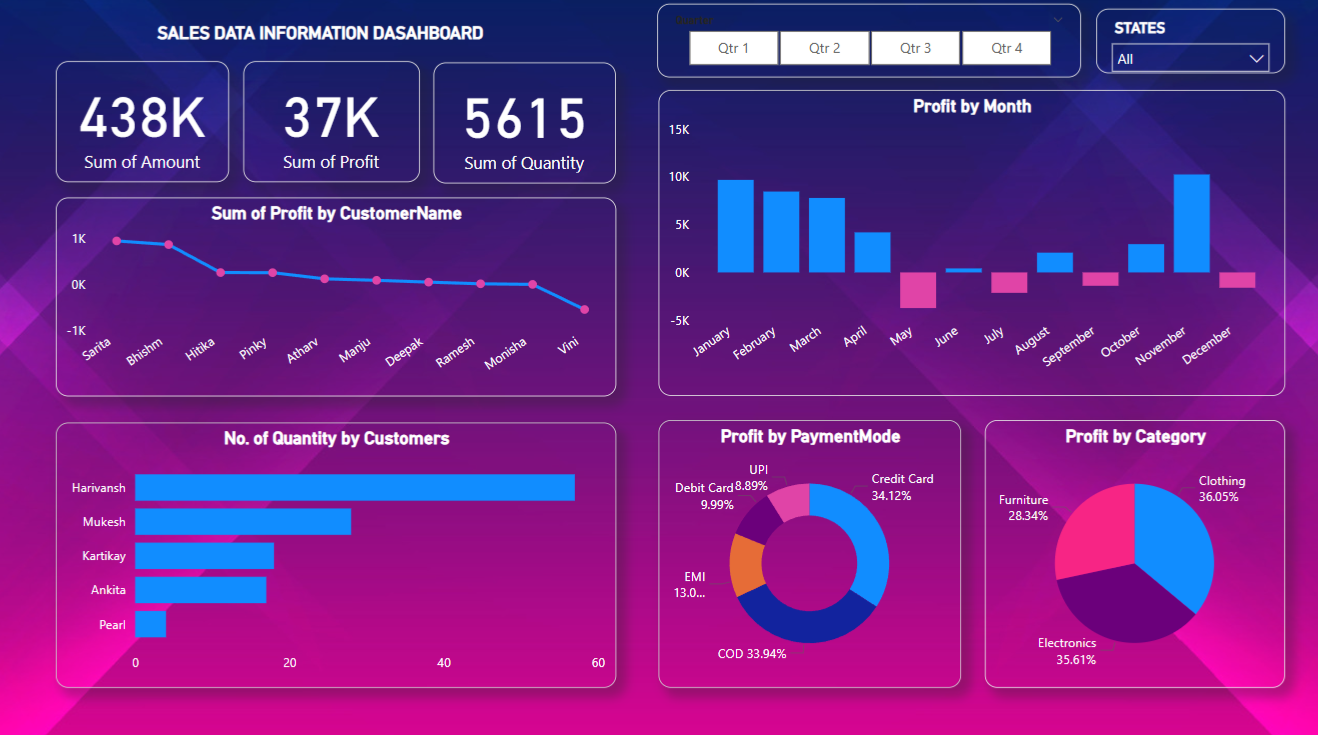

The dashboard page shown, as its layout file describes it:
{"tool":"powerbi","page":{"name":"Page 1","canvas":[1280,720],"ordinal":0},"visuals":[{"type":"columnChart","title":"Profit by Month","fields":{"Y":["Details.Profit"],"Category":["Orders.Order Date.Variation.Date Hierarchy.Month"]},"box":[639.4,96.5,604.4,295.6],"z":0},{"type":"pieChart","title":"Profit by Category","fields":{"Category":["Details.Category"],"Y":["Details.Profit"]},"box":[954.3,415,289.5,258.2],"z":1000},{"type":"donutChart","title":"Profit by PaymentMode","fields":{"Y":["Details.Profit"],"Category":["Details.PaymentMode"]},"box":[639.4,415,292,258.2],"z":2000},{"type":"barChart","title":"No. of Quantity by Customers","fields":{"Category":["Orders.CustomerName"],"Y":["Details.Quantity"]},"box":[57.9,417.4,540.5,255.8],"z":3000},{"type":"slicer","fields":{"Values":["Orders.Order Date.Variation.Date Hierarchy.Quarter"]},"box":[638.2,13.3,409,71.2],"z":4000},{"type":"slicer","fields":{"Values":["Orders.State"]},"box":[1061.7,18.1,182.2,62.7],"z":5000},{"type":"card","fields":{"Values":["Details.Amount"]},"box":[57.6,68.6,167.4,116.6],"z":6000},{"type":"card","fields":{"Values":["Details.Profit"]},"box":[238.8,68.6,170.2,116.6],"z":7000},{"type":"card","fields":{"Values":["Details.Quantity"]},"box":[422.6,70,175.6,116.6],"z":8000},{"type":"textbox","title":"SALES DATA INFORMATION DASAHBOARD","box":[57.9,31.4,510.3,18.1],"z":9000},{"type":"lineChart","fields":{"Y":["Details.Profit"],"Category":["Orders.CustomerName"]},"box":[57.6,200.3,540.7,192.1],"z":10000}]}

Visuals, with their boxes in screenshot pixels (x1, y1, x2, y2), scaled from the page's 1280x720 canvas onto the 1318x735 screenshot:
"Profit by Month" columnChart: x1=658 y1=99 x2=1281 y2=400
"Profit by Category" pieChart: x1=983 y1=424 x2=1281 y2=687
"Profit by PaymentMode" donutChart: x1=658 y1=424 x2=959 y2=687
"No. of Quantity by Customers" barChart: x1=60 y1=426 x2=616 y2=687
slicer - Orders.Order Date.Variation.Date Hierarchy.Quarter: x1=657 y1=14 x2=1078 y2=86
slicer - Orders.State: x1=1093 y1=18 x2=1281 y2=82
card - Details.Amount: x1=59 y1=70 x2=232 y2=189
card - Details.Profit: x1=246 y1=70 x2=421 y2=189
card - Details.Quantity: x1=435 y1=71 x2=616 y2=190
"SALES DATA INFORMATION DASAHBOARD" textbox: x1=60 y1=32 x2=585 y2=51
lineChart - Details.Profit x Orders.CustomerName: x1=59 y1=204 x2=616 y2=401
